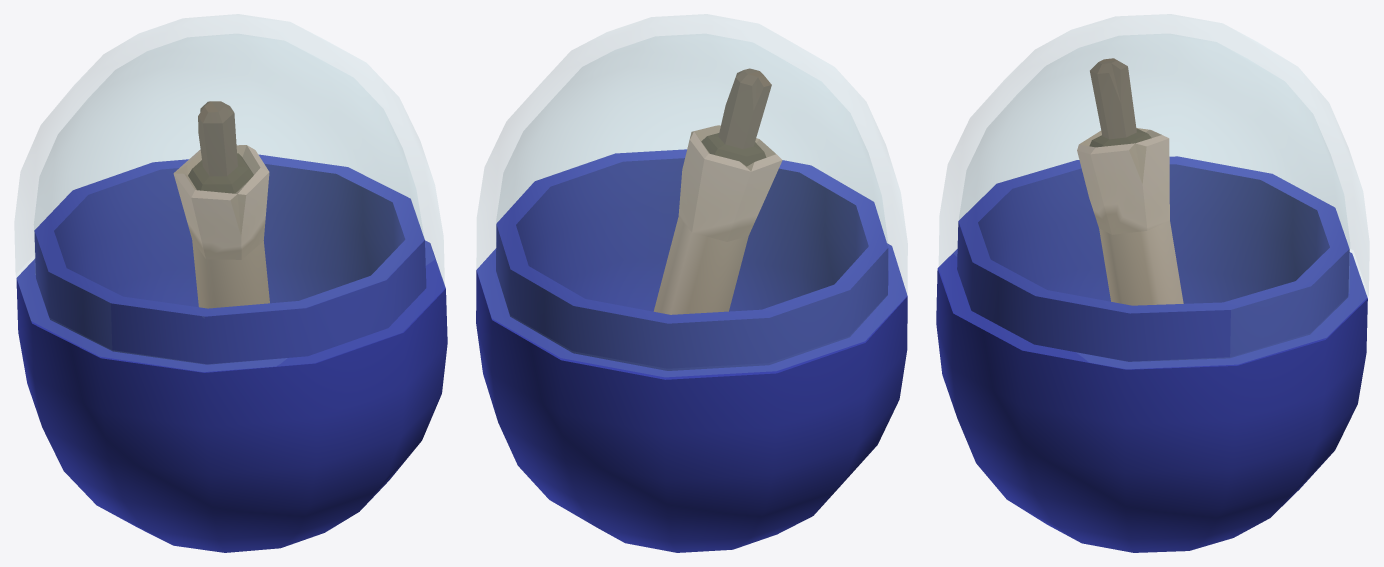
File: toyScroll.glb
The picture shows the model from 3 angles, left to right: view 1: azimuth 30°, elevation 25°; view 2: azimuth 150°, elevation 25°; view 3: azimuth 270°, elevation 25°; orthographic projection.
Visible parts, largest first — view 1: CapsuleBaseA, CapsuleGlassA, Scroll; view 2: CapsuleBaseA, CapsuleGlassA, Scroll; view 3: CapsuleBaseA, CapsuleGlassA, Scroll.
Boxes of the visible parts, bbox=[...] form: CapsuleBaseA: bbox=[16, 154, 447, 552]; CapsuleGlassA: bbox=[15, 14, 444, 371]; Scroll: bbox=[173, 101, 269, 308]; CapsuleBaseA: bbox=[476, 149, 907, 552]; CapsuleGlassA: bbox=[477, 14, 907, 376]; Scroll: bbox=[653, 68, 782, 314]; CapsuleBaseA: bbox=[936, 156, 1367, 552]; CapsuleGlassA: bbox=[939, 14, 1368, 368]; Scroll: bbox=[1077, 58, 1183, 305].
Bounding box in the file's own units: 0.3023 × 0.3858 × 0.3028.
3 materials, 1 textured.
